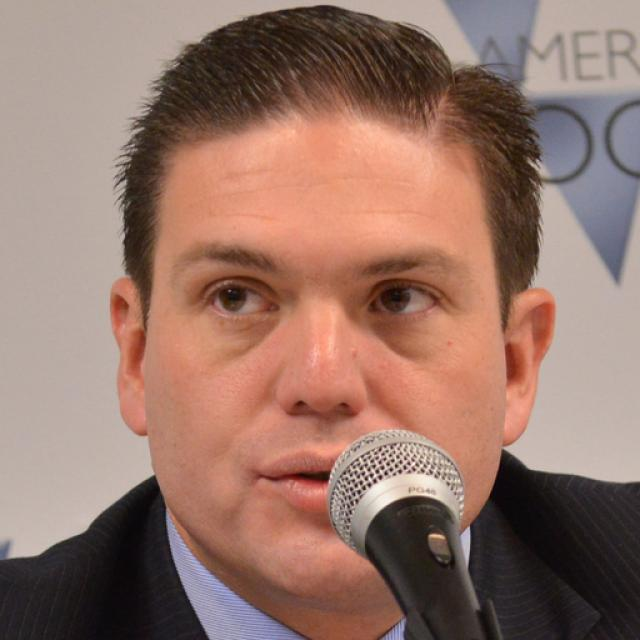Acne: (342, 340, 359, 362)
